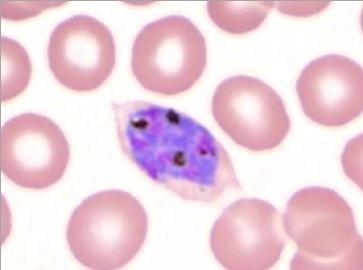Infected: (120, 68, 252, 171)
Uninfected: (214, 2, 297, 79), (73, 118, 151, 195), (157, 175, 232, 254), (74, 0, 153, 71), (293, 79, 363, 157), (6, 10, 78, 83), (247, 178, 314, 255), (0, 142, 66, 216)
